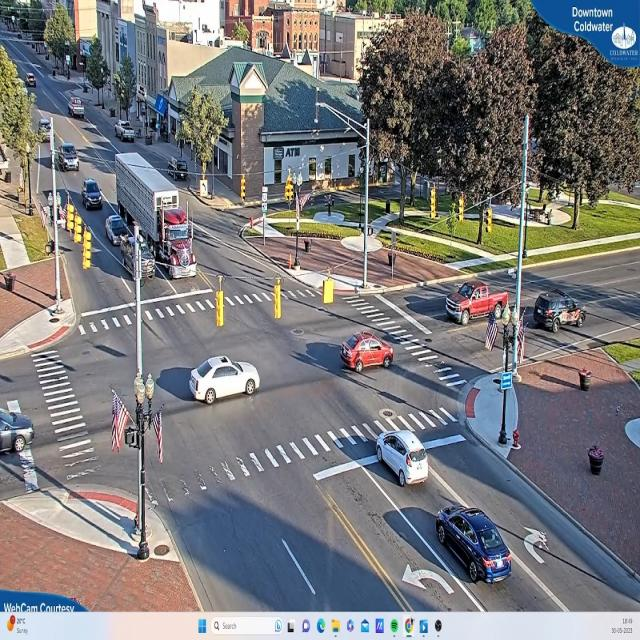car: (434, 507, 513, 586), (189, 355, 260, 406), (375, 428, 430, 487), (444, 284, 511, 325), (341, 333, 395, 371), (530, 296, 584, 332), (0, 409, 34, 454), (107, 215, 136, 245), (81, 178, 103, 210), (117, 122, 137, 144)
